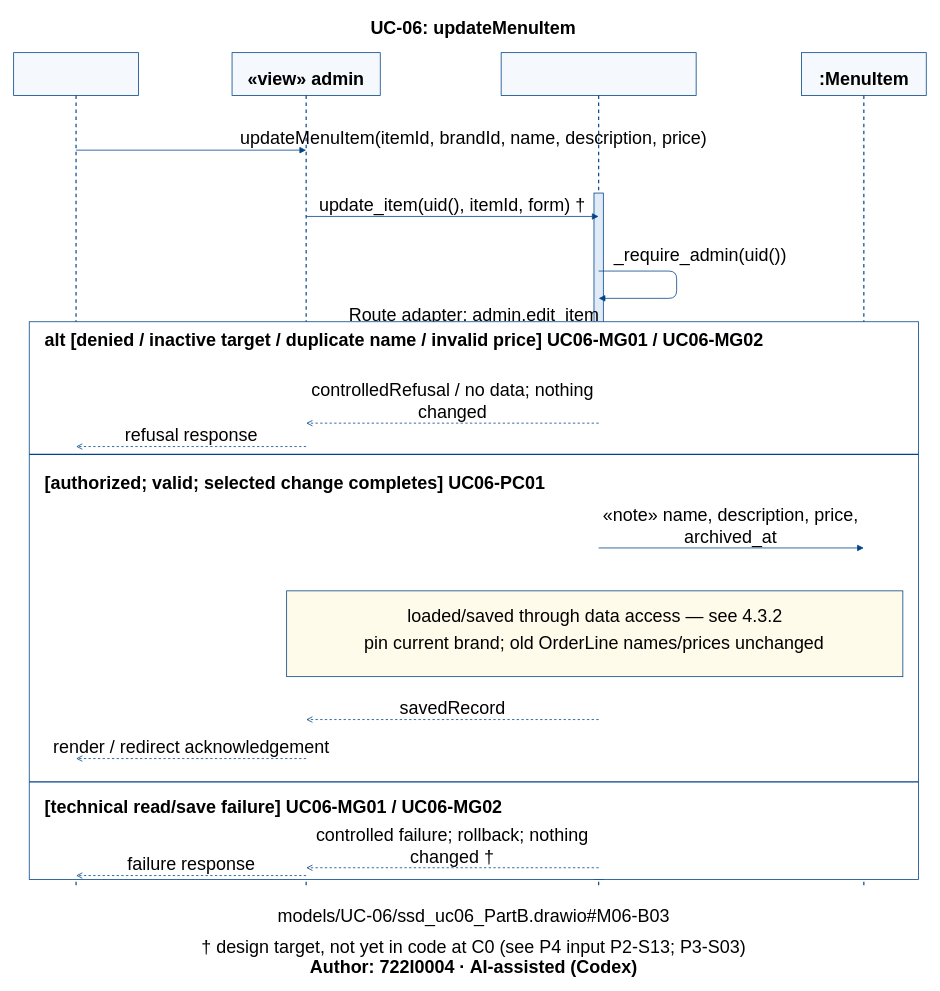
This 940x991 diagram has some shape labels left out. Here are the shapes that lost their labels. From the top down, the centre of each, then its label:
the point at 75,74: Admin
the point at 598,74: :MenuController
